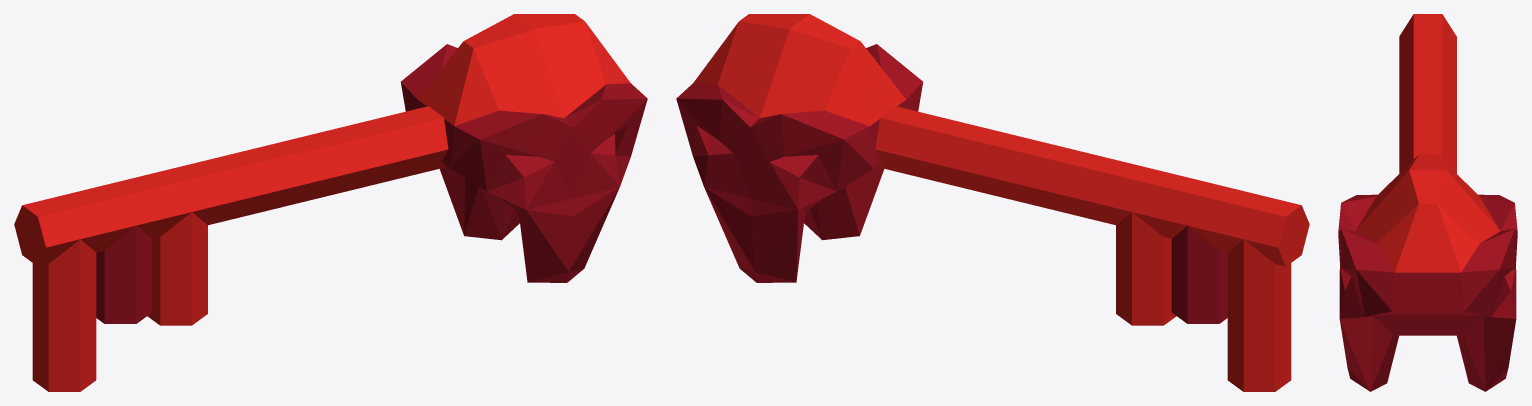
The model's file is KeySkull.fbx.
3 renders of one model, left to right at view 1: azimuth 30°, elevation 25°; view 2: azimuth 150°, elevation 25°; view 3: azimuth 270°, elevation 25°, orthographic. The views are drawn at different scales.
Visible parts, largest first — view 1: Cylinder; view 2: Cylinder; view 3: Cylinder.
Part boxes in pixels (<box>): Cylinder: <box>14,14,647,391</box>; Cylinder: <box>676,14,1309,391</box>; Cylinder: <box>1338,14,1517,391</box>.
Size of the model in its own units: 267 by 107 by 77.93.
